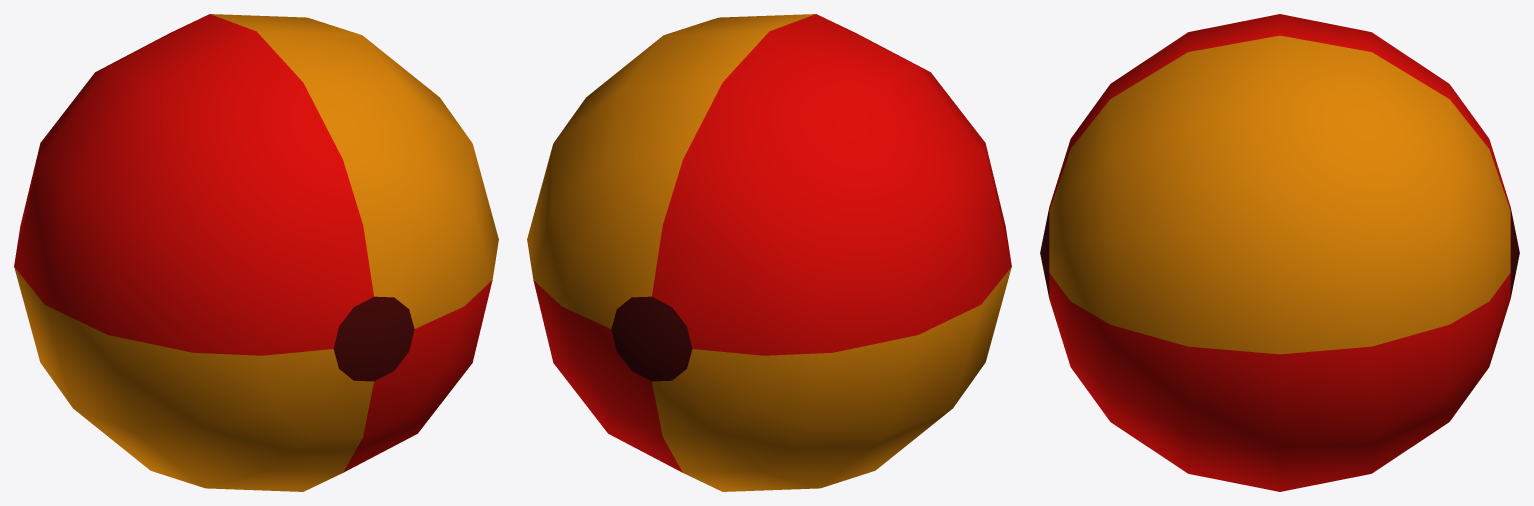
The model's file is Fbx_Bouncer.fbx.
3 renders of one model, left to right at view 1: azimuth 30°, elevation 25°; view 2: azimuth 150°, elevation 25°; view 3: azimuth 270°, elevation 25°, orthographic.
Visible parts, largest first — view 1: Sphere; view 2: Sphere; view 3: Sphere.
Part boxes in pixels (<box>): Sphere: <box>14,14,498,491</box>; Sphere: <box>527,14,1011,491</box>; Sphere: <box>1040,14,1519,491</box>.
Size of the model in its own units: 0.5 by 0.5 by 0.5.
